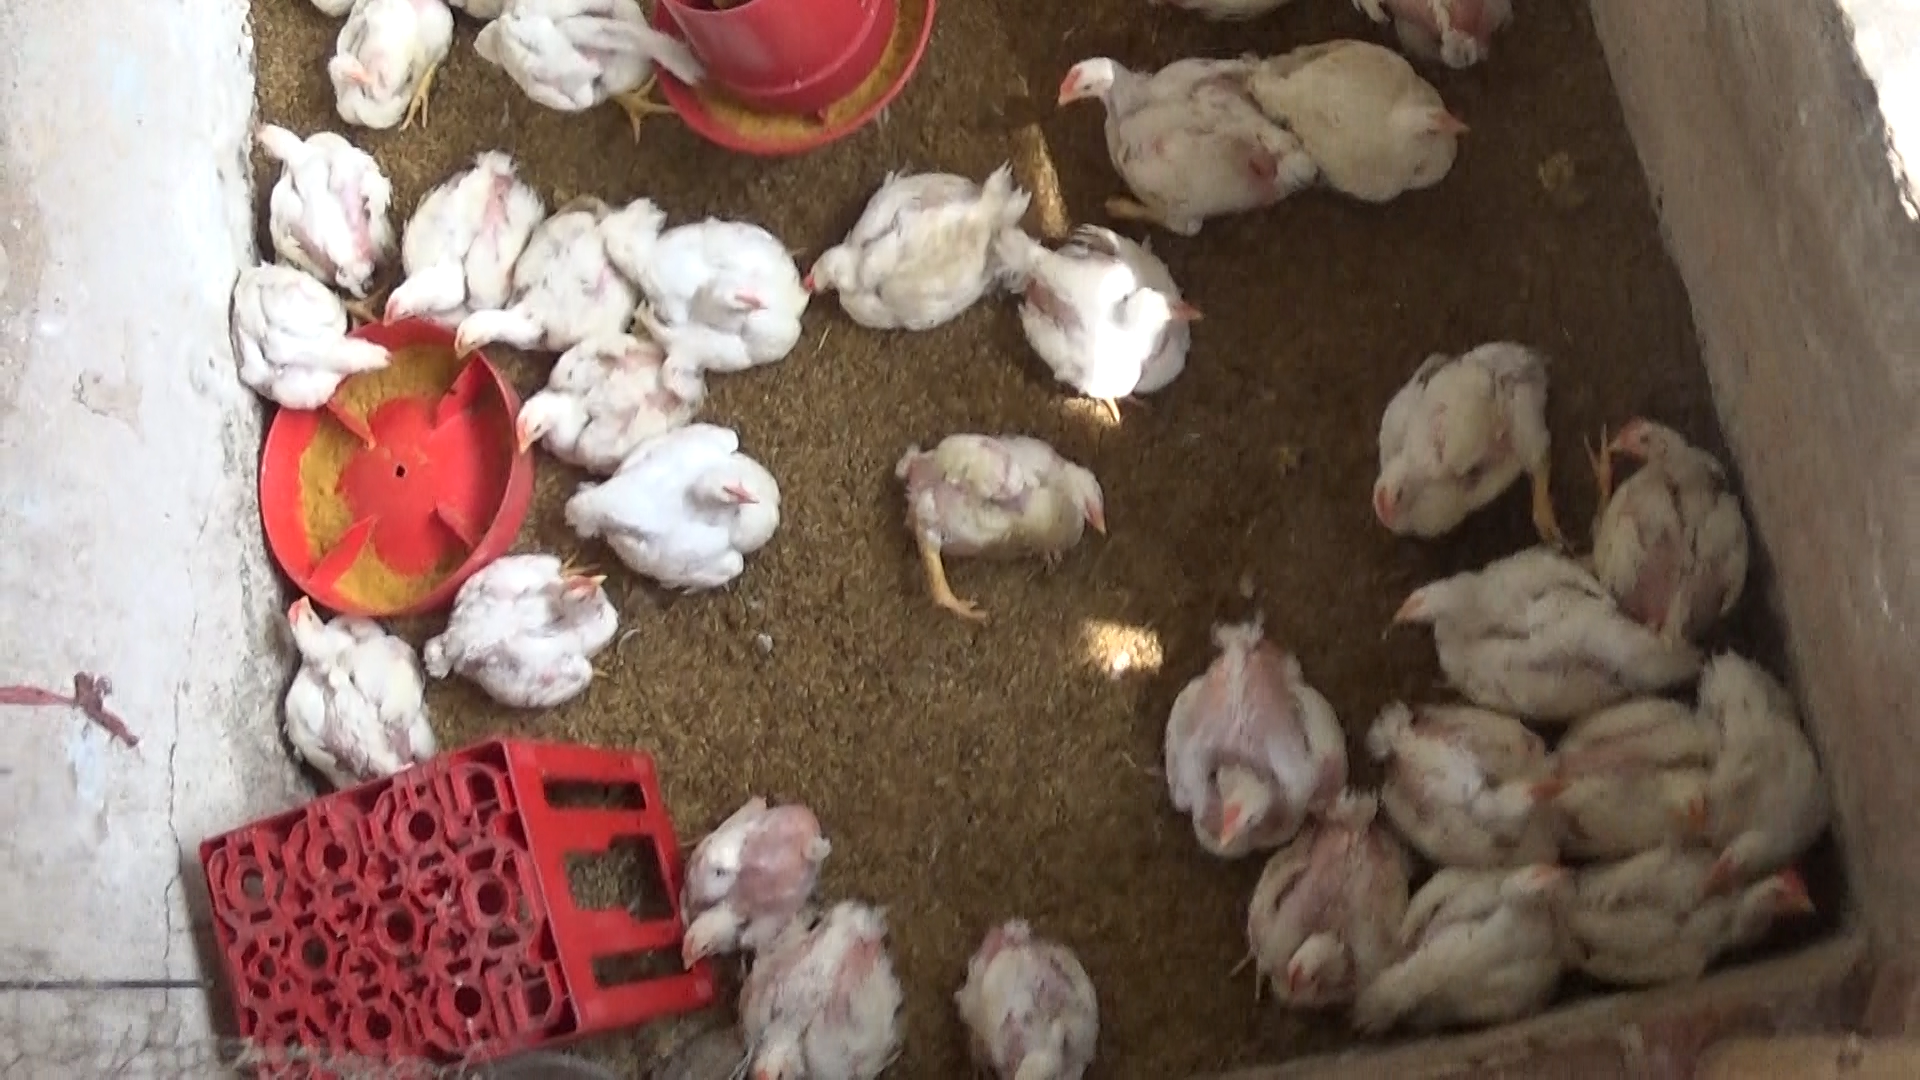Pollos: (1149, 608, 1357, 872), (1361, 327, 1590, 556), (890, 413, 1127, 628), (1377, 549, 1685, 713), (1332, 848, 1576, 1052), (1044, 33, 1300, 222), (1222, 771, 1420, 1013), (796, 153, 1029, 348), (990, 223, 1205, 425), (1571, 402, 1749, 640), (566, 422, 796, 601), (446, 196, 684, 368), (1253, 33, 1487, 207), (618, 179, 811, 388), (716, 880, 913, 1079), (258, 585, 440, 794), (186, 251, 390, 434), (647, 782, 833, 975), (1545, 851, 1811, 984), (422, 535, 622, 703), (1354, 684, 1553, 848), (473, 0, 698, 142), (237, 105, 406, 291), (498, 334, 717, 473), (381, 160, 545, 345), (940, 899, 1105, 1080), (1692, 651, 1825, 873), (1522, 708, 1726, 852), (316, 0, 460, 146)
